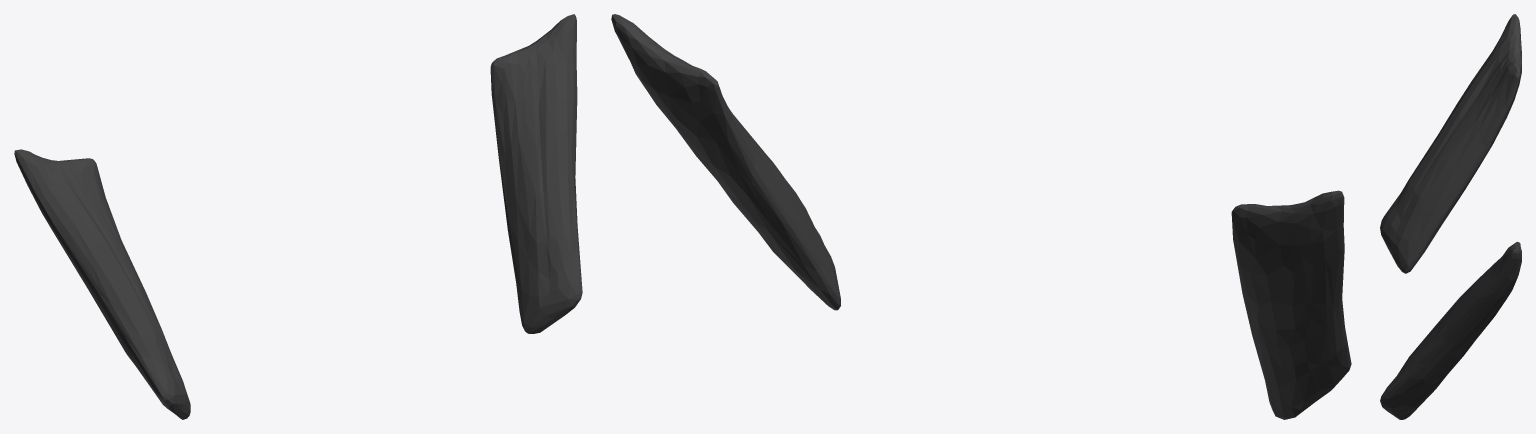
File: m_obliquus_capitis_cranialis.glb
3 renders of one model, left to right at view 1: azimuth 30°, elevation 25°; view 2: azimuth 150°, elevation 25°; view 3: azimuth 270°, elevation 25°, orthographic. The views are drawn at different scales.
Parts seen in each view (by area): view 1: m_obliquus_capitis_cranialis; view 2: m_obliquus_capitis_cranialis; view 3: m_obliquus_capitis_cranialis.
Part boxes in pixels (bbox=[...]): m_obliquus_capitis_cranialis: bbox=[14, 14, 582, 419]; m_obliquus_capitis_cranialis: bbox=[611, 14, 1351, 419]; m_obliquus_capitis_cranialis: bbox=[1380, 14, 1521, 419].
Bounding box in the file's own units: 0.00194 × 0.000819 × 0.000491.
1 material, 1 textured.
